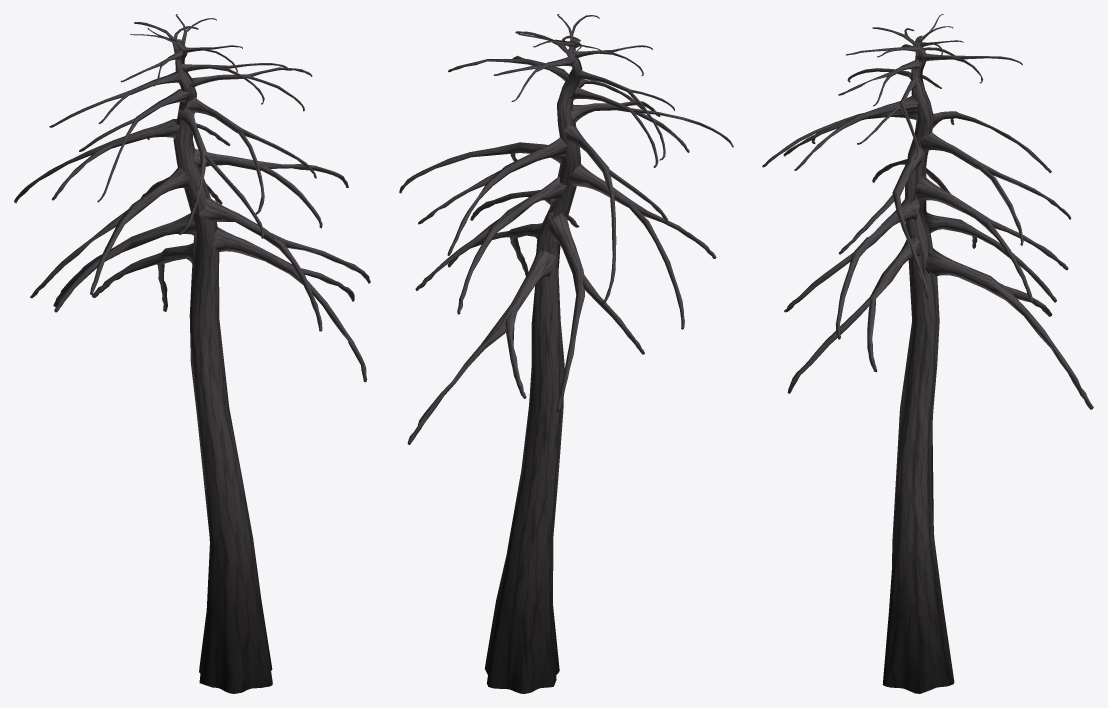
Rendered from nature-deadtree-3.glb.
The picture shows the model from 3 angles, left to right: view 1: azimuth 30°, elevation 25°; view 2: azimuth 150°, elevation 25°; view 3: azimuth 270°, elevation 25°; orthographic projection. The views are drawn at different scales.
Parts seen in each view (by area): view 1: DeadTree_3; view 2: DeadTree_3; view 3: DeadTree_3.
Boxes of the visible parts, x1,y1,x2,y2 form: DeadTree_3: (14, 14, 370, 693); DeadTree_3: (399, 14, 733, 693); DeadTree_3: (762, 14, 1093, 693).
Size of the model in its own units: 6.39 by 13.28 by 6.43.
Materials: 1 (1 with a texture image).
